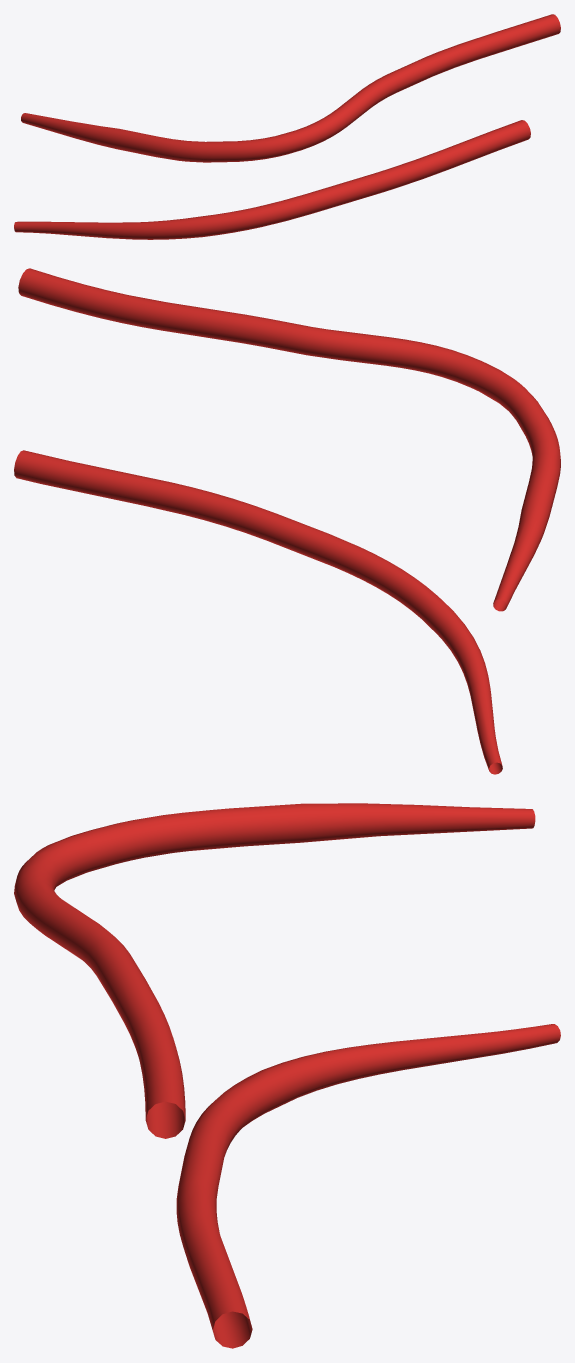
The model's file is circulatorio-medial-pontine-branches-of-basilar-artery-r.glb.
The picture shows the model from 3 angles, top to bottom: view 1: azimuth 30°, elevation 25°; view 2: azimuth 150°, elevation 25°; view 3: azimuth 270°, elevation 25°; orthographic projection. The views are drawn at different scales.
Parts seen in each view (by area): view 1: Medial pontine branches of basilar artery.r; view 2: Medial pontine branches of basilar artery.r; view 3: Medial pontine branches of basilar artery.r.
Part boxes in pixels (x1=…): Medial pontine branches of basilar artery.r: x1=14, y1=14, x2=560, y2=239; Medial pontine branches of basilar artery.r: x1=14, y1=268, x2=560, y2=774; Medial pontine branches of basilar artery.r: x1=14, y1=803, x2=560, y2=1348.
Size of the model in its own units: 0.00986 by 0.0039 by 0.00546.
